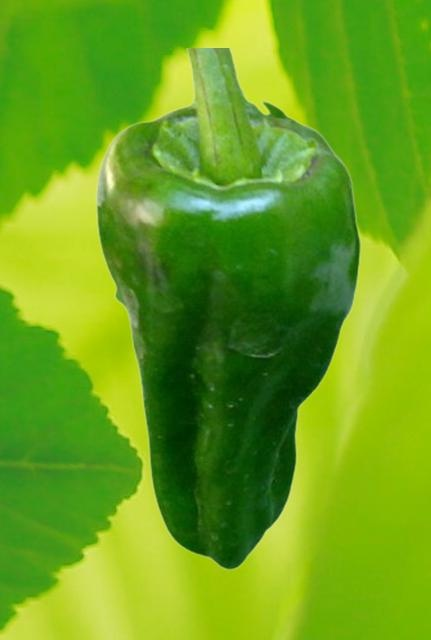bell_pepper: (94, 48, 361, 570)
